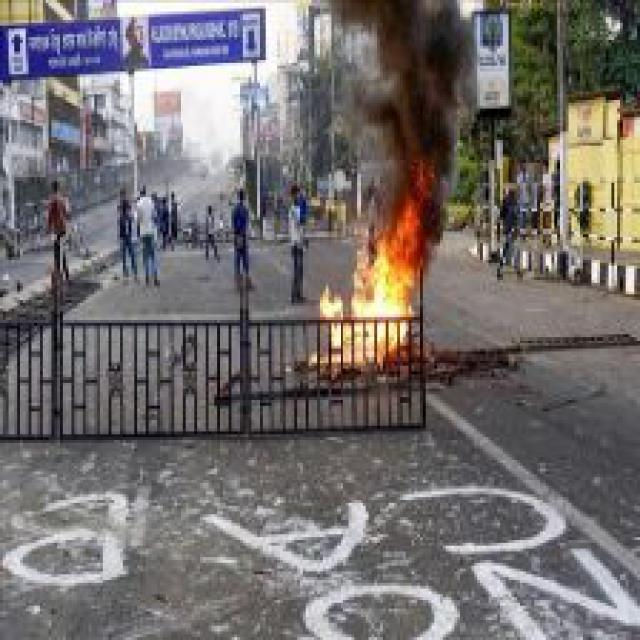fire: (312, 157, 457, 377)
